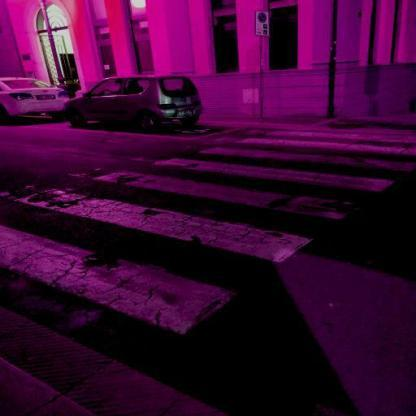crosswalk: (92, 156, 398, 224)
